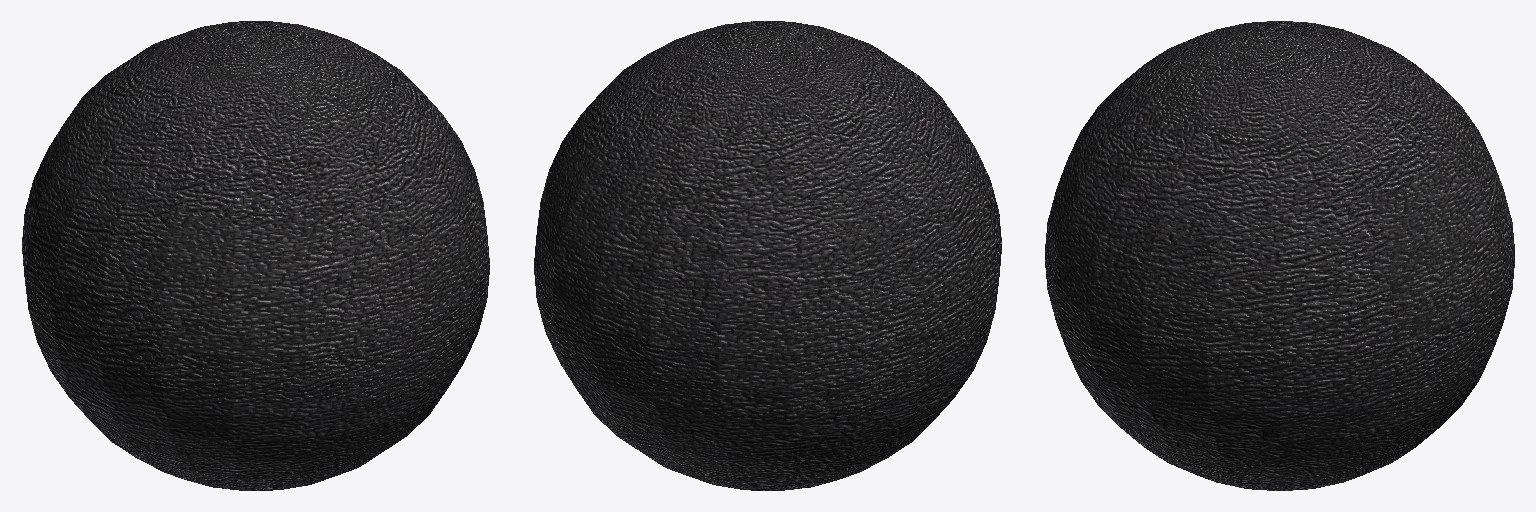
The picture shows the model from 3 angles: view 1: azimuth 30°, elevation 25°; view 2: azimuth 150°, elevation 25°; view 3: azimuth 270°, elevation 25°; orthographic projection.
Parts seen in each view (by area): view 1: pSphere1; view 2: pSphere1; view 3: pSphere1.
Boxes of the visible parts, x1=… form: pSphere1: x1=22, y1=21, x2=489, y2=490; pSphere1: x1=534, y1=21, x2=1001, y2=490; pSphere1: x1=1045, y1=21, x2=1514, y2=490.
Bounding box in the file's own units: 2 × 2 × 2.
1 materials, 1 textured.